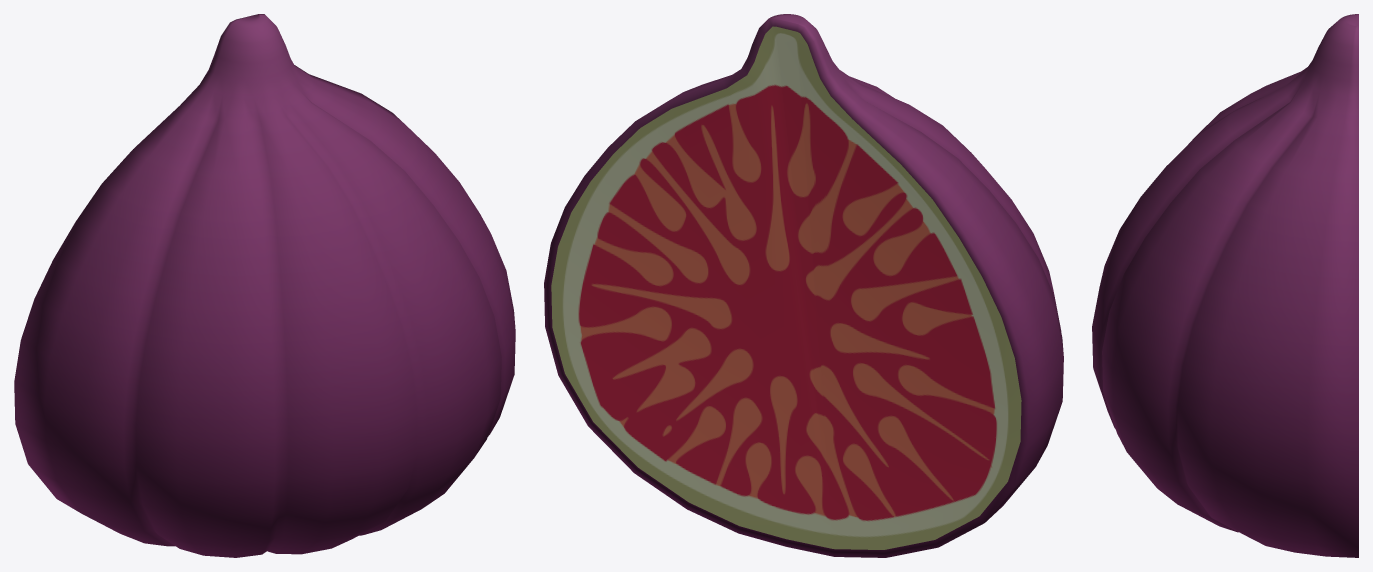
Rendered from Fig.fbx.
The picture shows the model from 3 angles, left to right: view 1: azimuth 30°, elevation 25°; view 2: azimuth 150°, elevation 25°; view 3: azimuth 270°, elevation 25°; orthographic projection. The views are drawn at different scales.
Parts seen in each view (by area): view 1: Fig; view 2: Fig; view 3: Fig.
Part boxes in pixels (bbox=[...]): Fig: bbox=[14, 14, 515, 557]; Fig: bbox=[544, 14, 1063, 557]; Fig: bbox=[1092, 14, 1358, 557].
Size of the model in its own units: 8.67 by 8.98 by 4.33.
